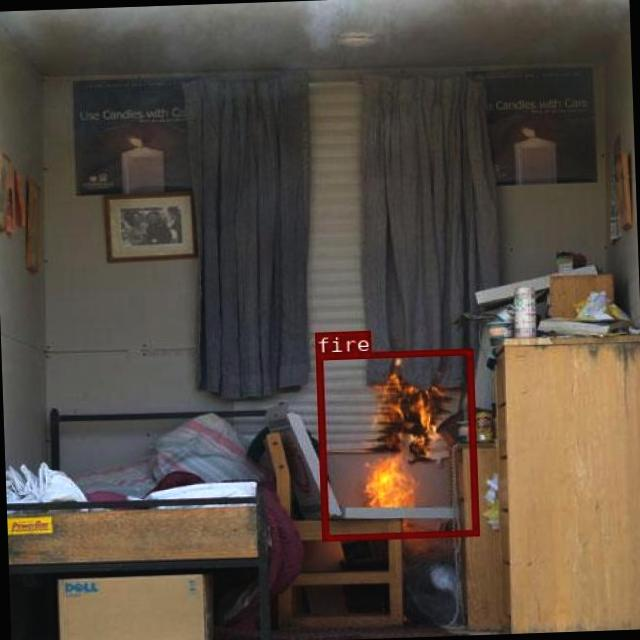fire: (314, 348, 476, 540)
